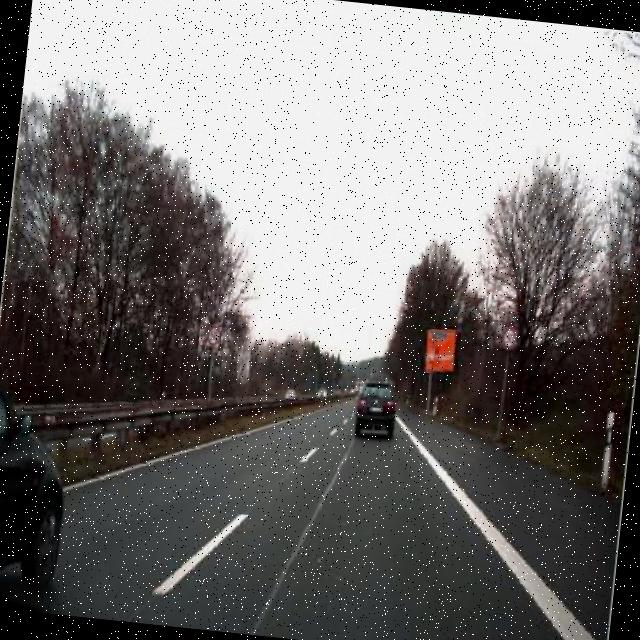Ograniczenie predkosci do 50: (500, 322, 518, 352), (206, 322, 222, 348)
